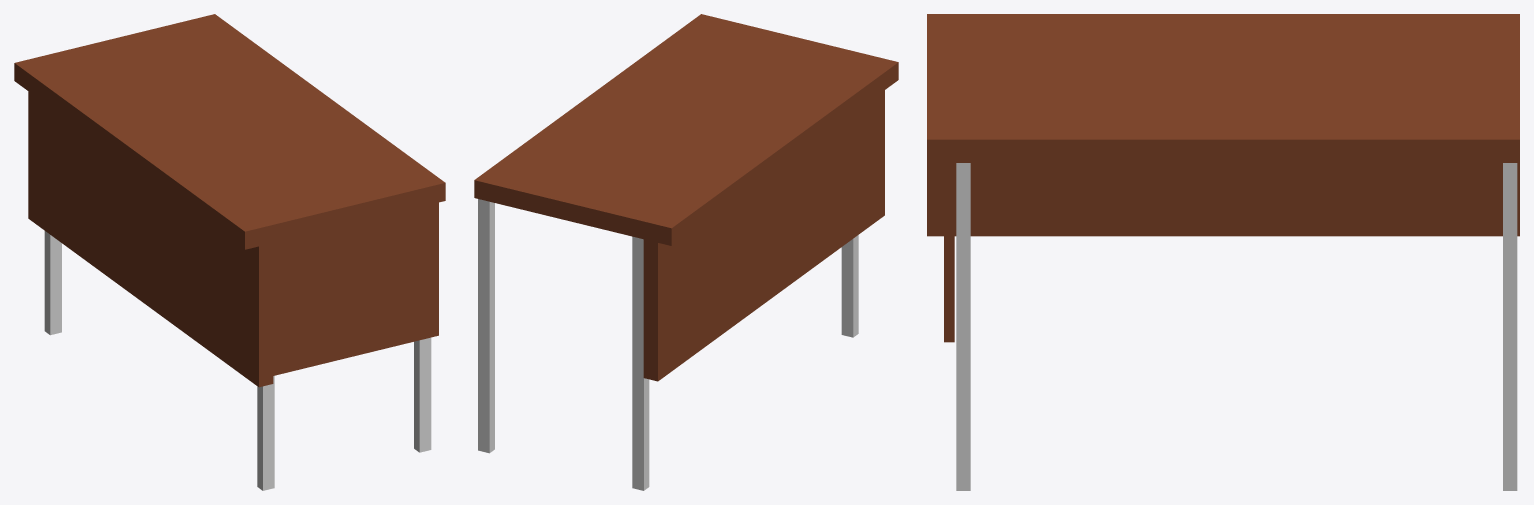
Rendered from Aula_EscritorioProfesor.fbx.
3 views of the same model, side by side, from view 1: azimuth 30°, elevation 25°; view 2: azimuth 150°, elevation 25°; view 3: azimuth 270°, elevation 25° (orthographic). The views are drawn at different scales.
Visible parts, largest first — view 1: Aula_EscritorioProfesor; view 2: Aula_EscritorioProfesor; view 3: Aula_EscritorioProfesor.
Part boxes in pixels (x1,y1,x2,y2): Aula_EscritorioProfesor: (14, 14, 445, 490); Aula_EscritorioProfesor: (474, 14, 898, 490); Aula_EscritorioProfesor: (927, 14, 1519, 490).
Size of the model in its own units: 296 by 387 by 589.
